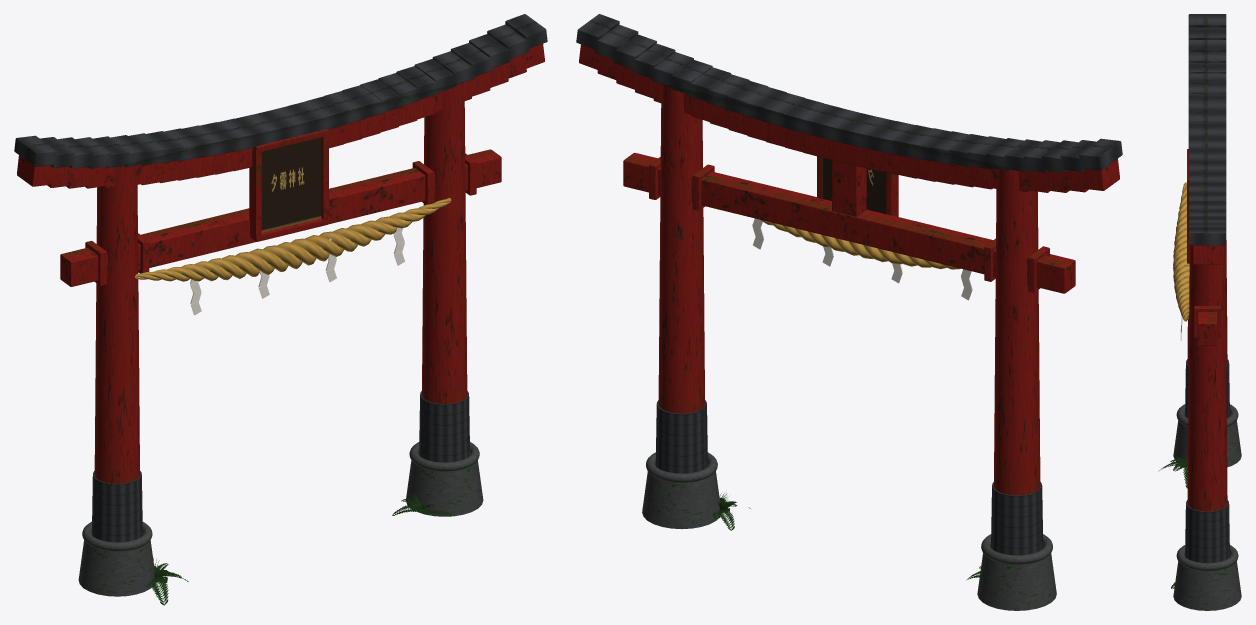
File: ToriiGate_Grand.fbx
3 views of the same model, side by side, from view 1: azimuth 30°, elevation 25°; view 2: azimuth 150°, elevation 25°; view 3: azimuth 270°, elevation 25° (orthographic). The views are drawn at different scales.
Parts seen in each view (by area): view 1: ToriiGate_Grand; view 2: ToriiGate_Grand; view 3: ToriiGate_Grand.
Boxes of the visible parts, x1,y1,x2,y2 form: ToriiGate_Grand: (14,14,547,605); ToriiGate_Grand: (576,14,1122,610); ToriiGate_Grand: (1158,14,1241,610).
Size of the model in its own units: 5.8 by 5.07 by 1.01.
